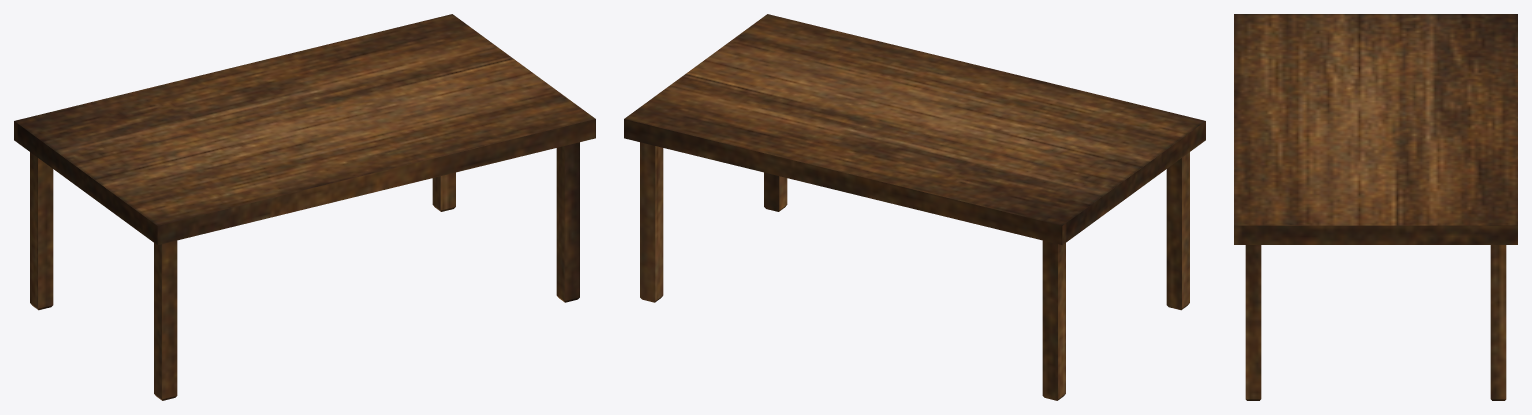
Rendered from table_02.obj.
3 views of the same model, side by side, from view 1: azimuth 30°, elevation 25°; view 2: azimuth 150°, elevation 25°; view 3: azimuth 270°, elevation 25° (orthographic).
Visible parts, largest first — view 1: table.02; view 2: table.02; view 3: table.02.
Boxes of the visible parts, x1,y1,x2,y2 form: table.02: (14, 14, 595, 400); table.02: (624, 14, 1205, 400); table.02: (1234, 14, 1517, 400).
Bounding box in the file's own units: 2.2 × 0.8777 × 1.25.
